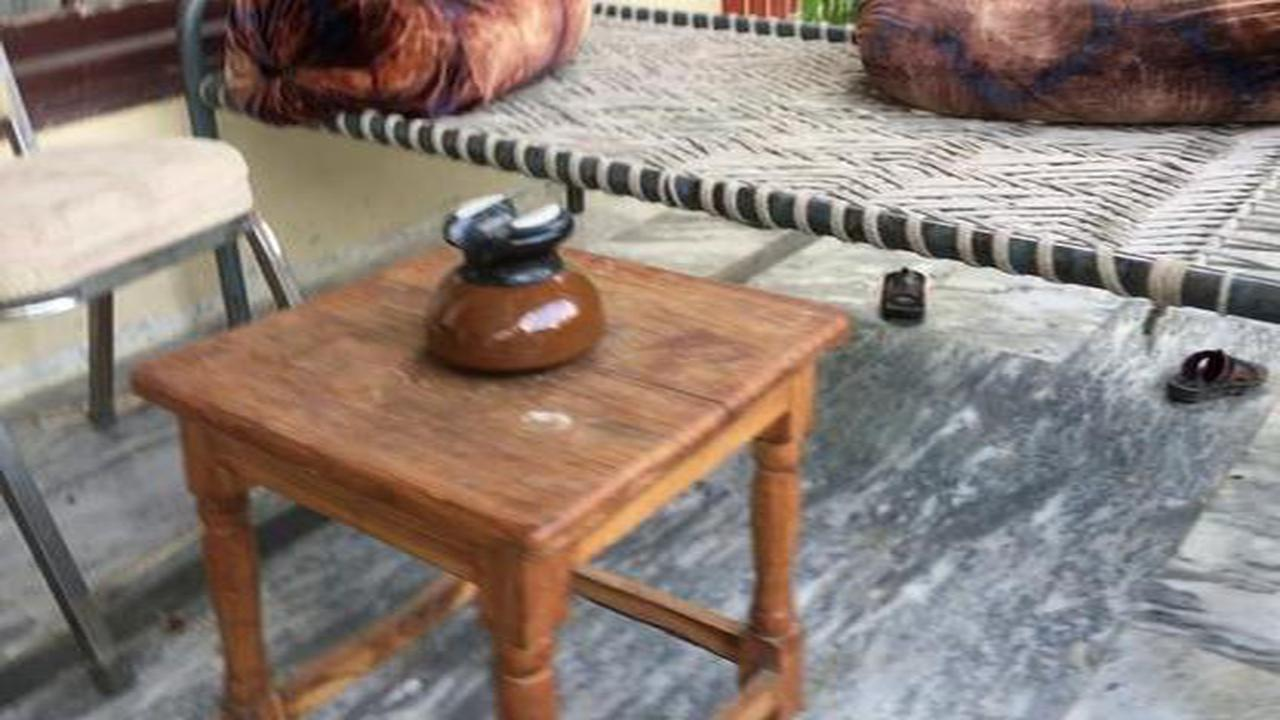insulator_pin: (410, 184, 619, 386)
